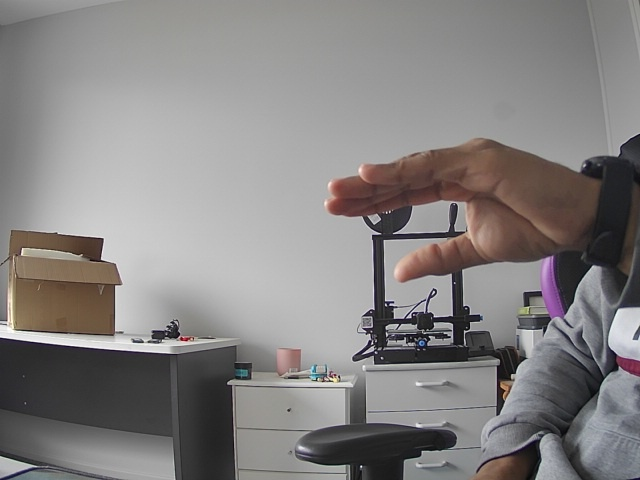No: (293, 129, 621, 287)
